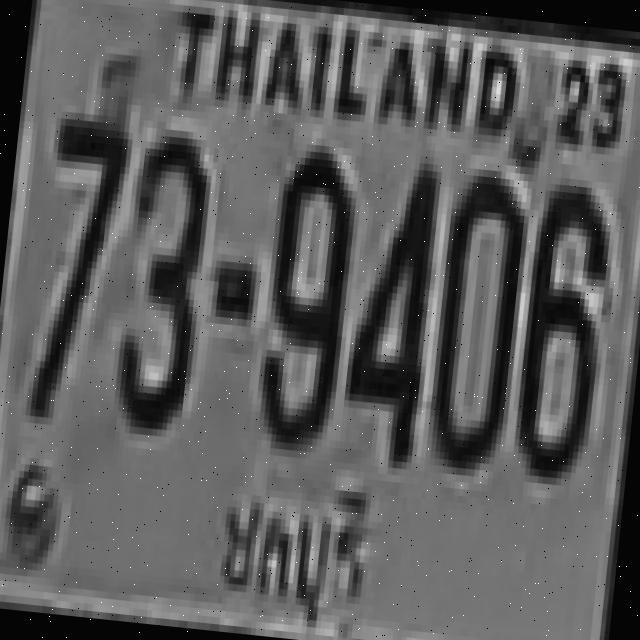0: (421, 162, 528, 468)
3: (108, 122, 212, 428)
4: (336, 150, 441, 462)
6: (507, 175, 610, 473)
7: (23, 106, 128, 418)
9: (252, 138, 356, 442)
Chonburi: (207, 467, 387, 640)
